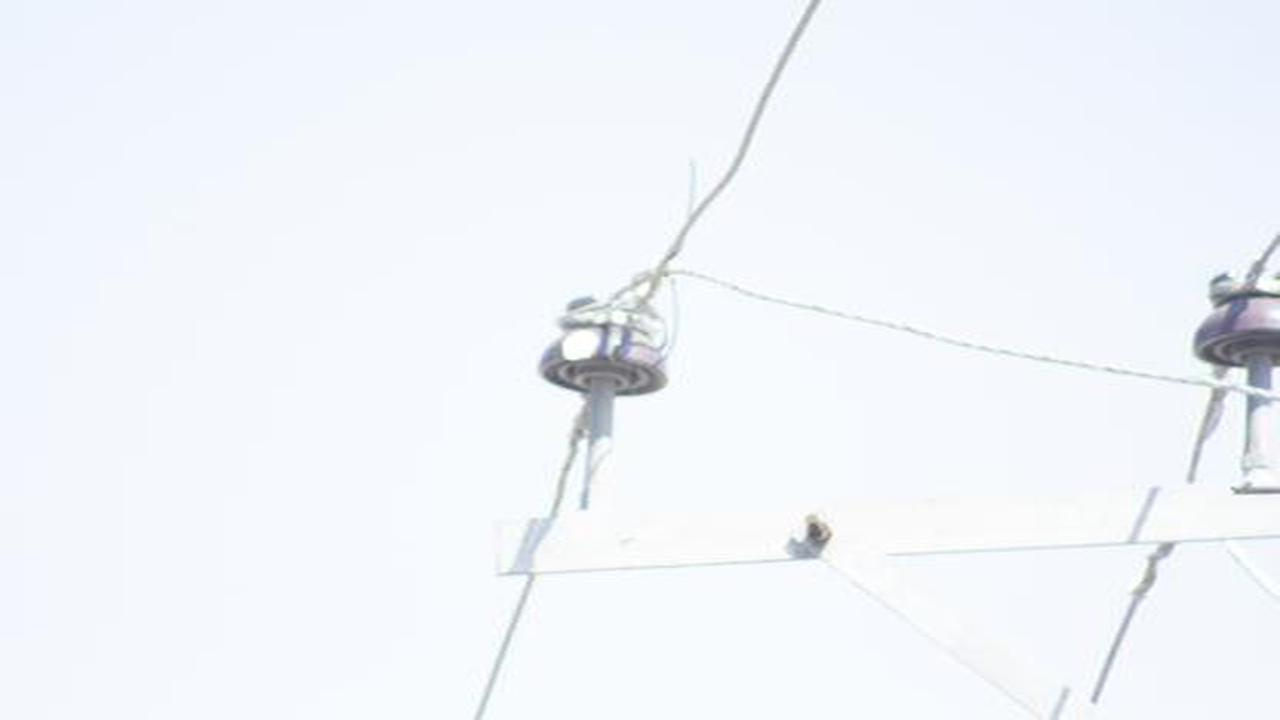defect_pin: (536, 287, 675, 405)
